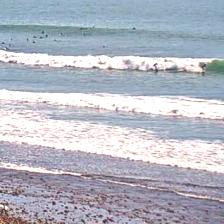surfer: (152, 63, 158, 69), (83, 33, 91, 37), (201, 64, 206, 70), (53, 39, 60, 42), (38, 36, 43, 39), (5, 47, 10, 50), (80, 27, 87, 29), (90, 26, 94, 29), (46, 34, 48, 38), (42, 30, 44, 34), (33, 36, 37, 38), (1, 42, 5, 44), (133, 27, 136, 29), (103, 45, 105, 48), (32, 41, 35, 43), (27, 38, 29, 41), (11, 38, 13, 40), (9, 44, 11, 46), (61, 32, 62, 35)
